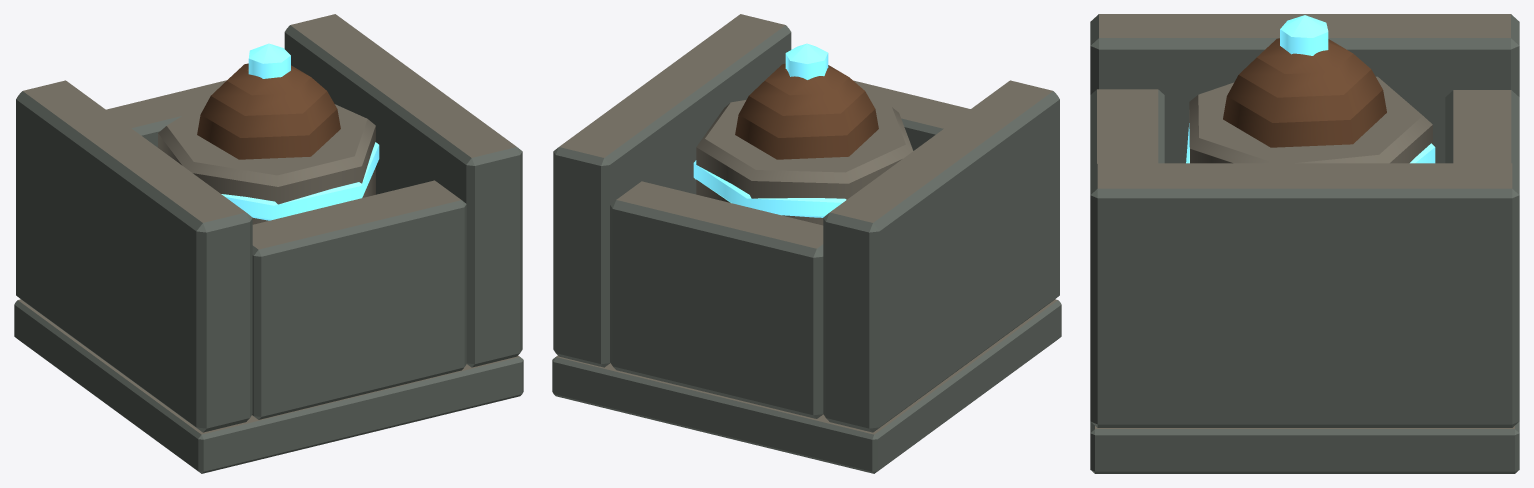
Rendered from R4X_DeployableShieldGenerator_LOD1.fbx.
3 views of the same model, side by side, from view 1: azimuth 30°, elevation 25°; view 2: azimuth 150°, elevation 25°; view 3: azimuth 270°, elevation 25° (orthographic). The views are drawn at different scales.
Visible parts, largest first — view 1: R4X_DeployableShieldGenerator_LOD1; view 2: R4X_DeployableShieldGenerator_LOD1; view 3: R4X_DeployableShieldGenerator_LOD1.
Boxes of the visible parts, bbox=[...] form: R4X_DeployableShieldGenerator_LOD1: bbox=[14, 14, 523, 473]; R4X_DeployableShieldGenerator_LOD1: bbox=[552, 14, 1061, 473]; R4X_DeployableShieldGenerator_LOD1: bbox=[1090, 14, 1519, 473].
Bounding box in the file's own units: 0.52 × 0.495 × 0.52.
